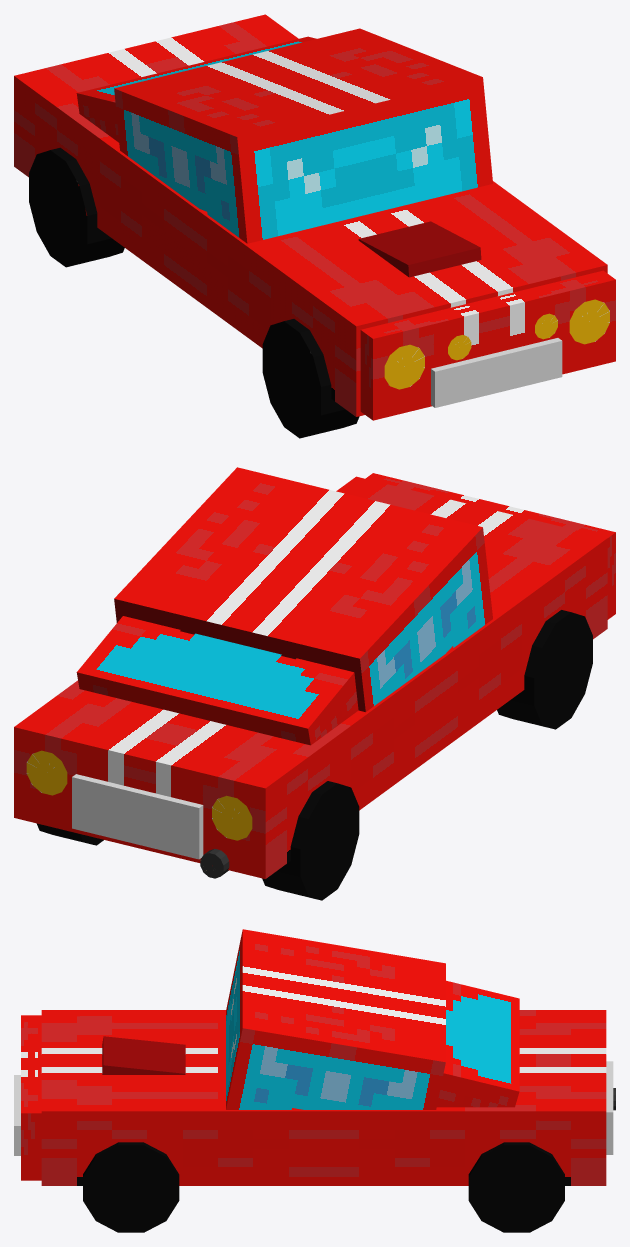
The model's file is mustang.gltf.
The picture shows the model from 3 angles, top to bottom: view 1: azimuth 30°, elevation 25°; view 2: azimuth 150°, elevation 25°; view 3: azimuth 270°, elevation 25°; orthographic projection. The views are drawn at different scales.
Parts seen in each view (by area): view 1: Chassi, cylinder (×2), Placa_frente, circle (×2); view 2: Chassi, cylinder (×3), Placa_fundo, circle (×2); view 3: Chassi, cylinder (×2), Placa_fundo, Placa_frente.
Boxes of the visible parts, box(x1,y1,x2,y2) form: Chassi: box(14, 14, 615, 420); cylinder (×2): box(29, 147, 359, 438); Placa_frente: box(431, 338, 562, 407); circle (×2): box(384, 299, 609, 389); Chassi: box(14, 467, 615, 878); cylinder (×3): box(200, 610, 592, 900); Placa_fundo: box(72, 774, 203, 859); circle (×2): box(26, 750, 252, 840); Chassi: box(21, 929, 606, 1185); cylinder (×2): box(83, 1142, 564, 1232); Placa_fundo: box(606, 1061, 613, 1154); Placa_frente: box(14, 1075, 20, 1155).
Bounding box in the file's own units: 0.5813 × 0.5018 × 1.37.
13 materials, 12 textured.
